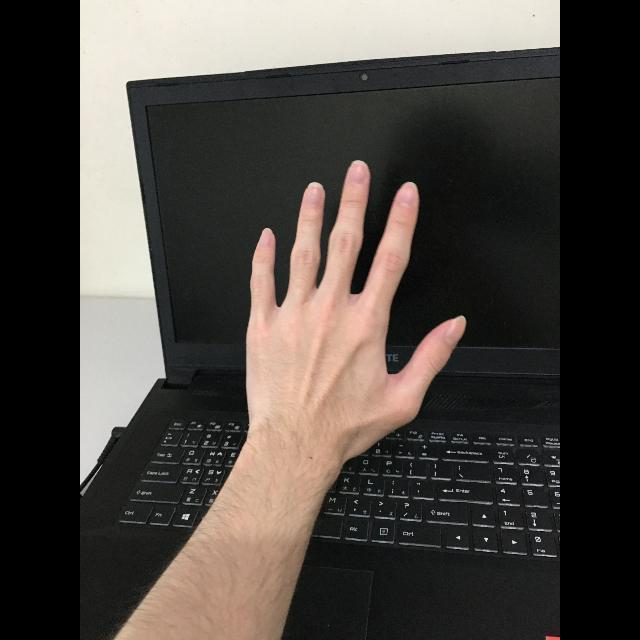bare_hand: (243, 158, 467, 449)
